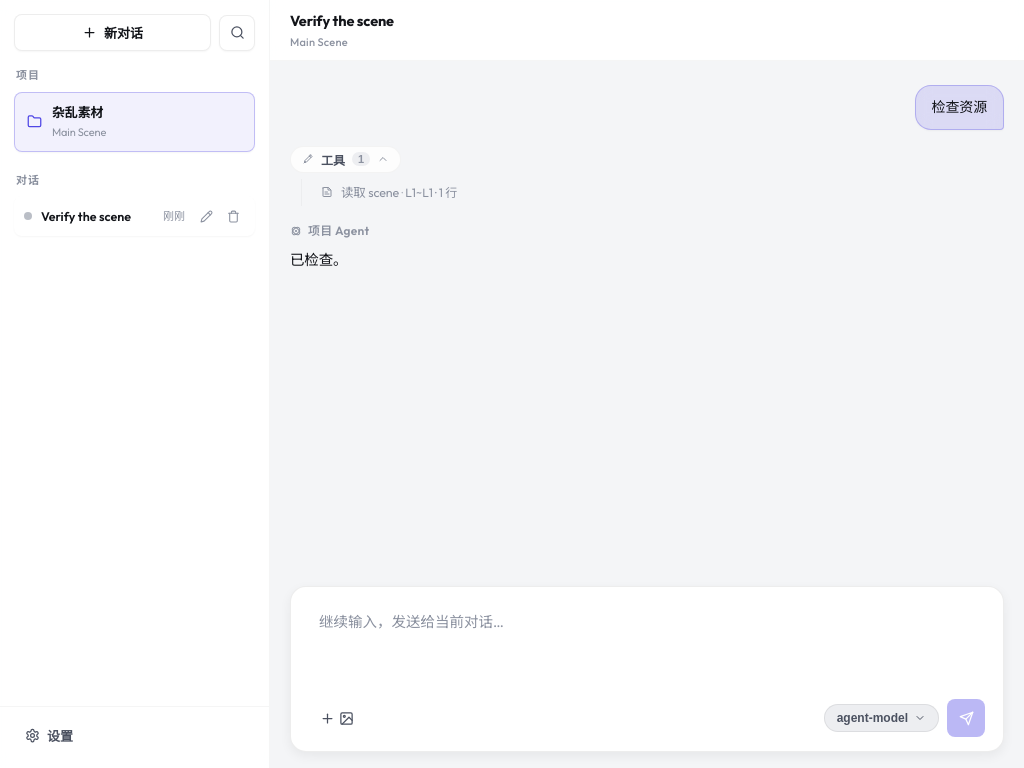
Scenario: AgentWindow conversation thread › collapses and expands the collapsible tool group
Expected: the text "读取 scene" is shown, [341, 184, 399, 200]
What coordinates should you click on to do the following:
click the button "工具 1"
I would click on:
 (346, 159)
Its box is [290, 146, 401, 173].
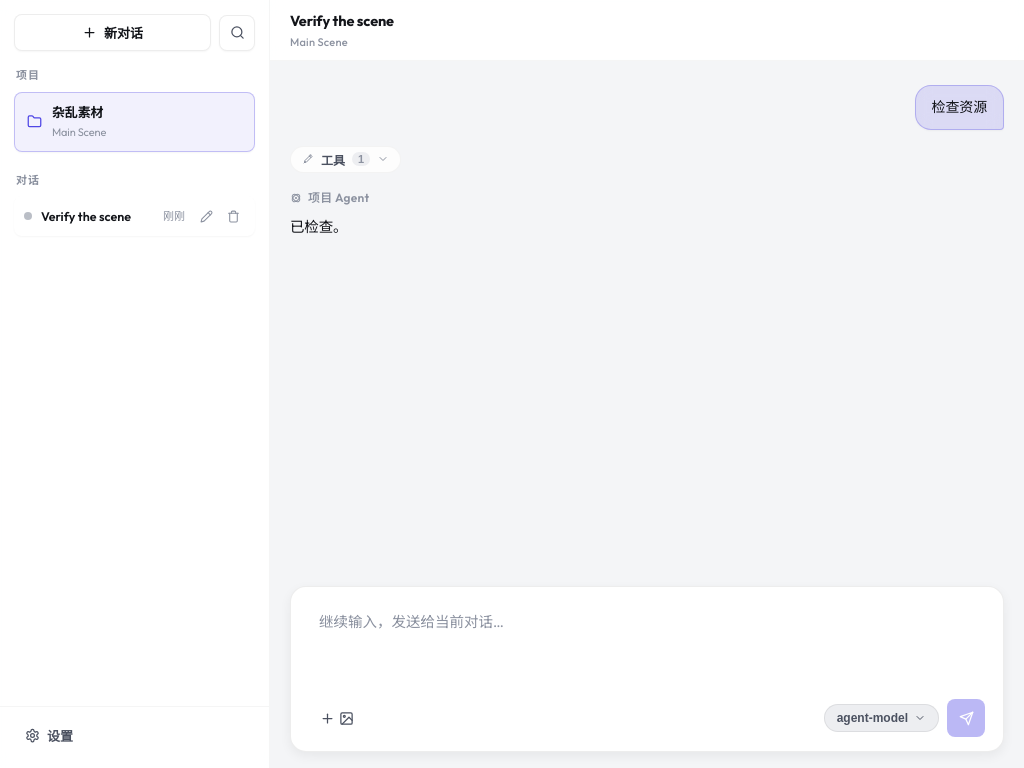
Expected: the text "读取 scene" is gone
What coordinates should you click on to do the following:
click the button "工具 1"
I would click on:
 (346, 159)
Its box is [290, 146, 401, 173].
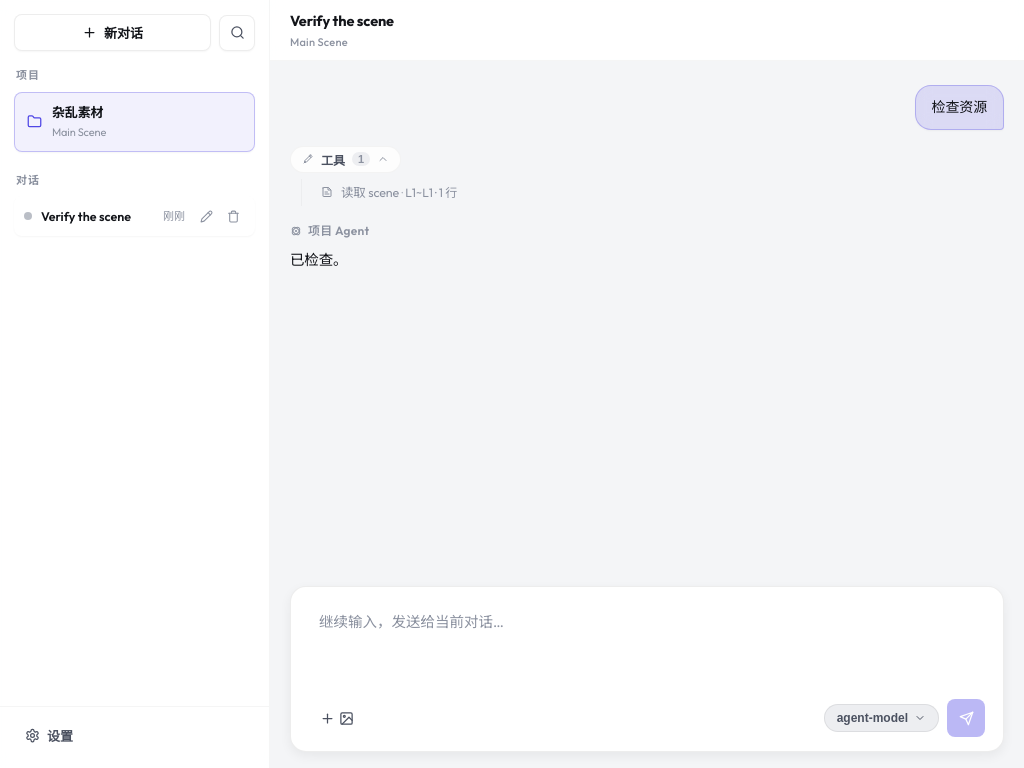
Expected: the text "读取 scene" is shown, [341, 184, 399, 200]
